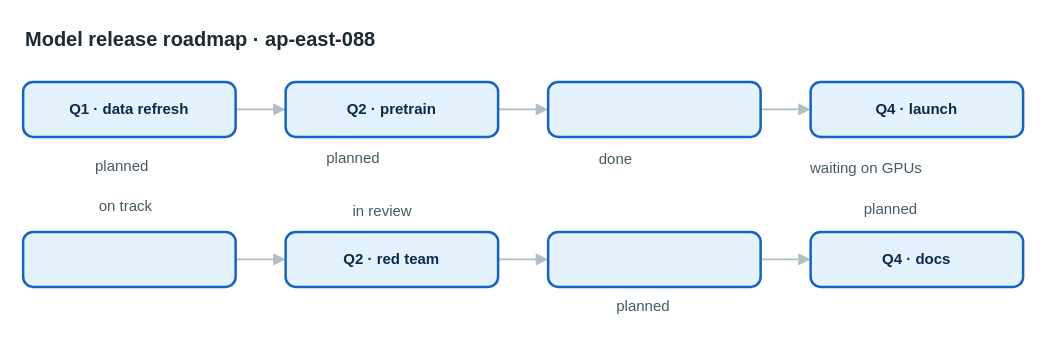
This 1045x338 diagram has some shape labels left out. The box of each missing label's shape, as (x1, y1, x2, y2) in pixels:
Q1 · eval suite: (21, 230, 236, 288)
Q3 · alignment: (546, 80, 761, 138)
Q3 · serving: (546, 230, 761, 288)
